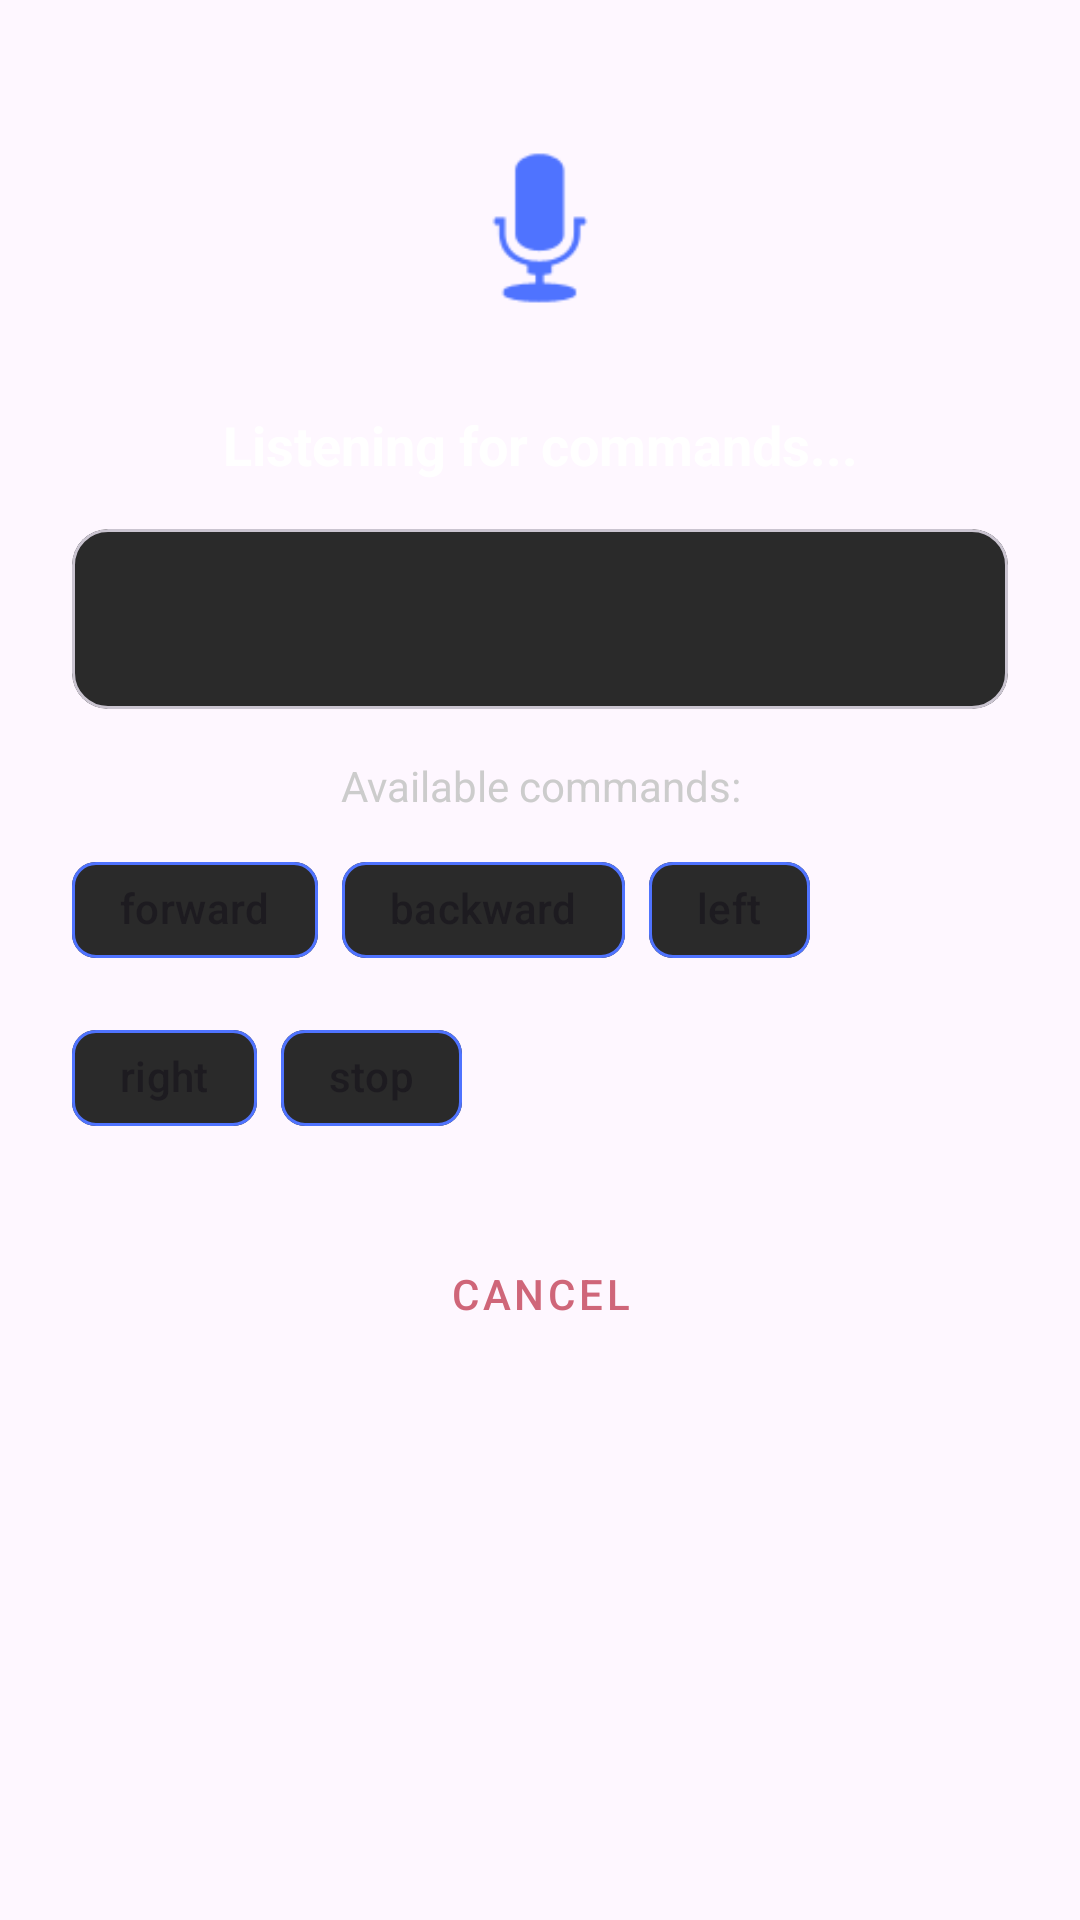

Named icons in this screenshot (1080*1920) and their centers, (x=x, y=y):
Microphone icon: (x=539, y=228)
